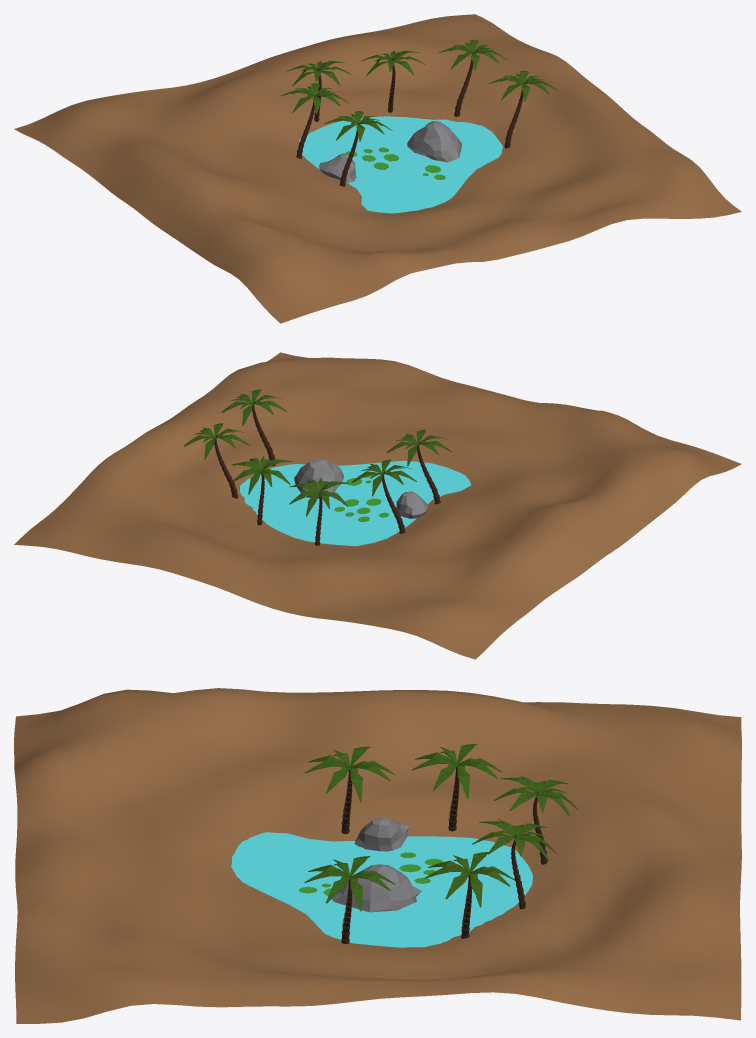
File: oasis.fbx
3 renders of one model, top to bottom at view 1: azimuth 30°, elevation 25°; view 2: azimuth 150°, elevation 25°; view 3: azimuth 270°, elevation 25°, orthographic. The views are drawn at different scales.
Visible parts, largest first — view 1: Plane.001, uploads_files_968058_3dLakeLowPoly.001; view 2: Plane.001, uploads_files_968058_3dLakeLowPoly.001; view 3: Plane.001, uploads_files_968058_3dLakeLowPoly.001.
Boxes of the visible parts, bbox=[...] form: Plane.001: bbox=[14, 14, 741, 323]; uploads_files_968058_3dLakeLowPoly.001: bbox=[299, 116, 502, 213]; Plane.001: bbox=[14, 352, 741, 659]; uploads_files_968058_3dLakeLowPoly.001: bbox=[239, 458, 470, 546]; Plane.001: bbox=[14, 688, 741, 1023]; uploads_files_968058_3dLakeLowPoly.001: bbox=[231, 817, 532, 947].
Bounding box in the file's own units: 44159 × 6246 × 43962.
